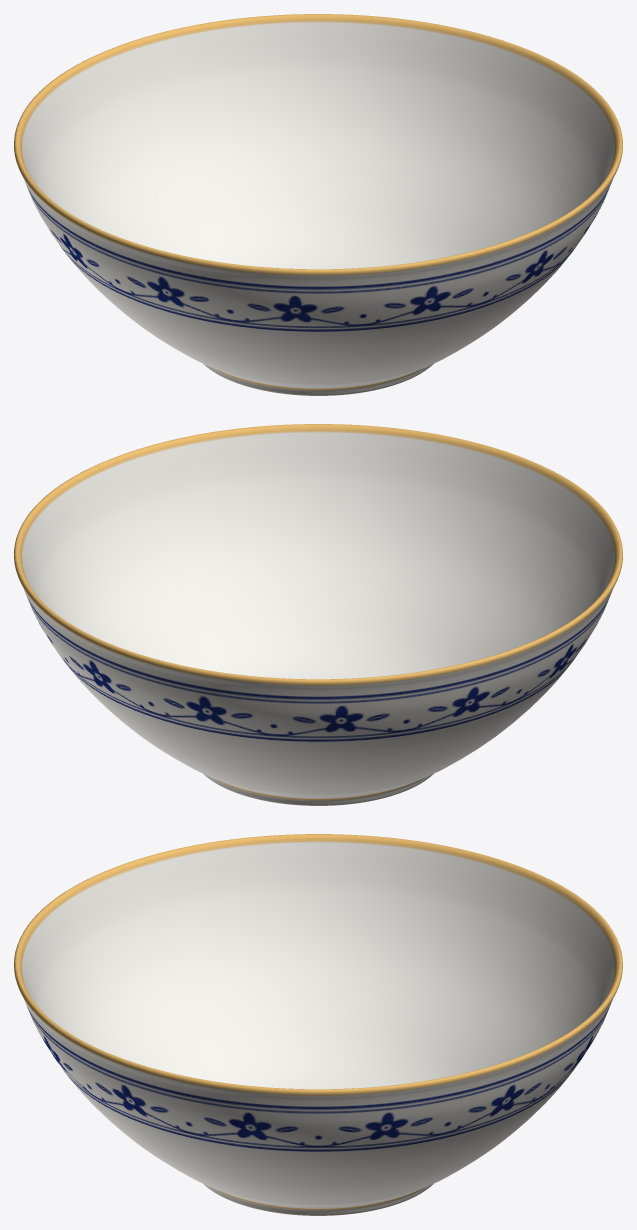
File: bowl.glb
3 views of the same model, one above another, from view 1: azimuth 30°, elevation 25°; view 2: azimuth 150°, elevation 25°; view 3: azimuth 270°, elevation 25° (orthographic).
Visible parts, largest first — view 1: bowl; view 2: bowl; view 3: bowl.
Part boxes in pixels (<box>): bowl: <box>14,14,622,395</box>; bowl: <box>14,424,622,805</box>; bowl: <box>14,834,622,1215</box>.
Bounding box in the file's own units: 0.2103 × 0.0771 × 0.2103.
1 material, 1 textured.
